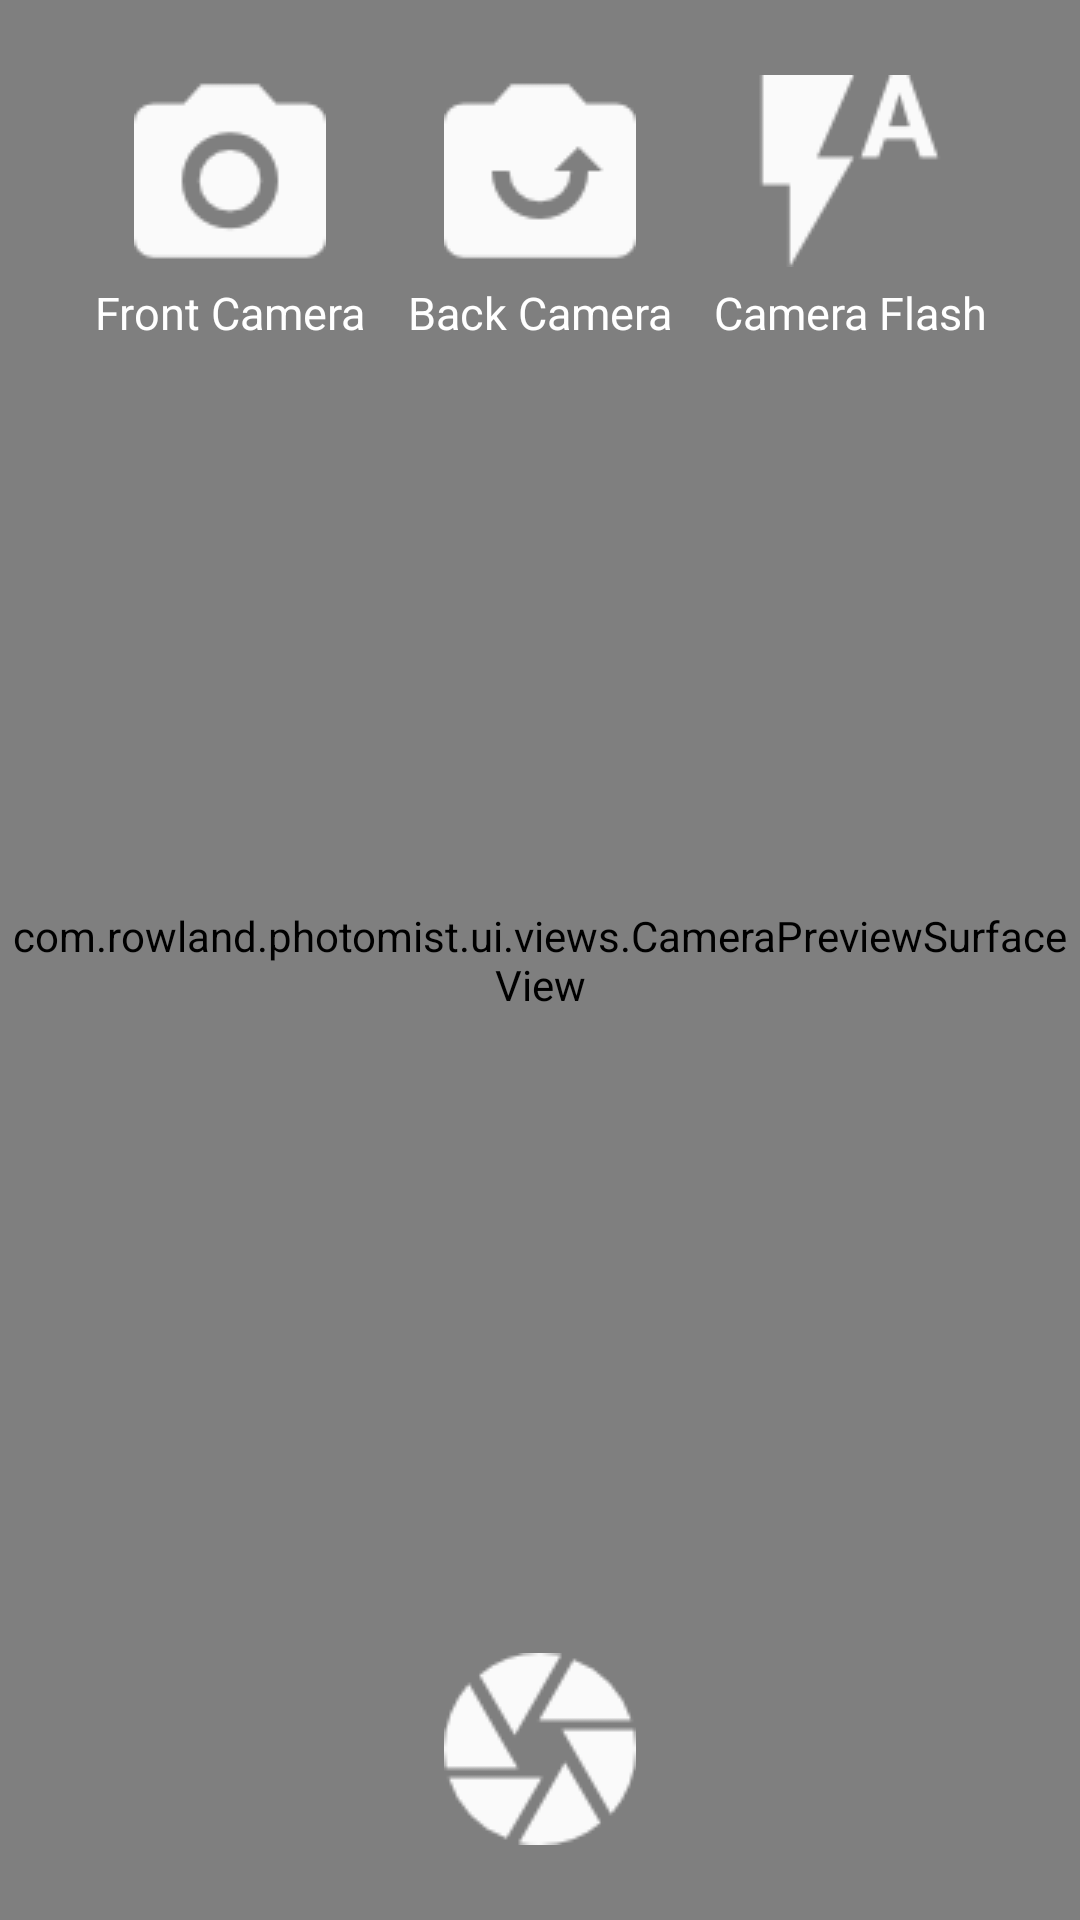

Where icons sit on this 1080×1920 app screen, as (x1, y1, x2, y2):
camera take: (444, 1653, 636, 1845)
